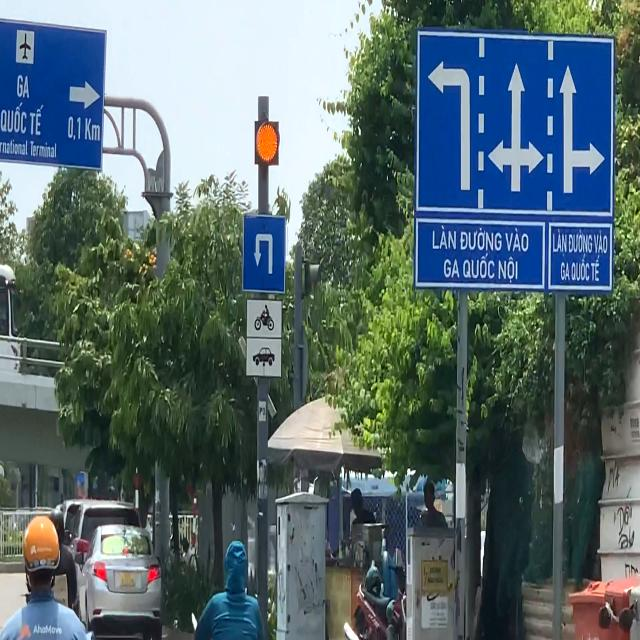R.409: (242, 213, 286, 298)
